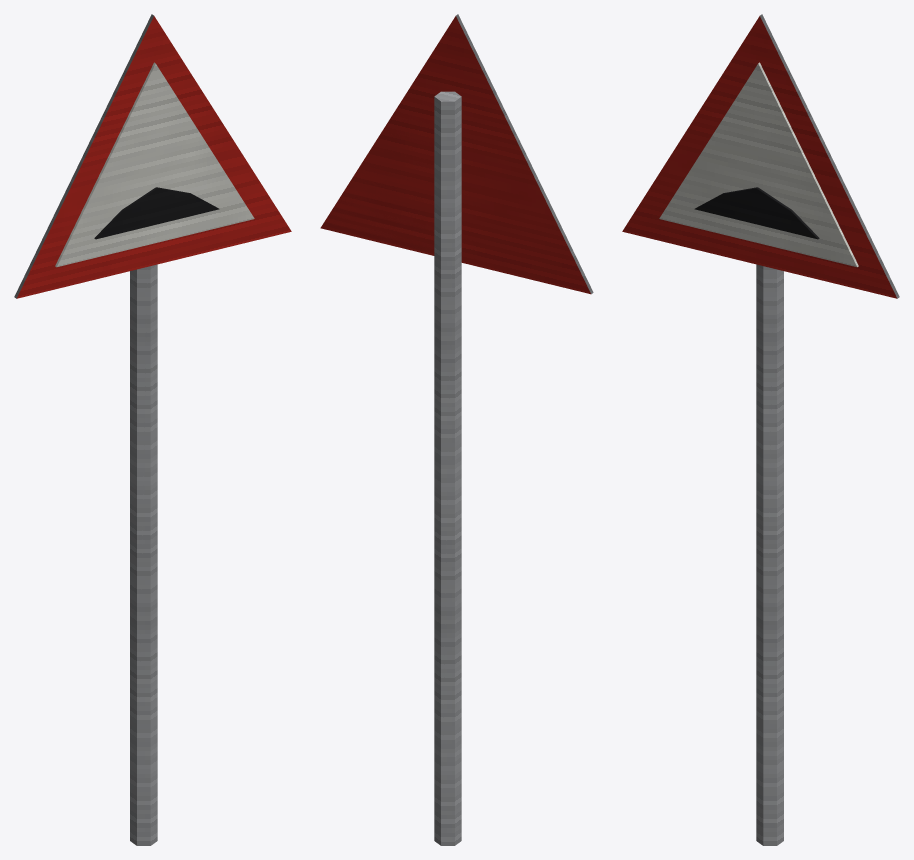
Rendered from placa_pulo.glb.
The picture shows the model from 3 angles, left to right: view 1: azimuth 30°, elevation 25°; view 2: azimuth 150°, elevation 25°; view 3: azimuth 330°, elevation 25°; orthographic projection.
Parts seen in each view (by area): view 1: Inteiro; view 2: Inteiro, Peca_01; view 3: Inteiro.
Boxes of the visible parts, x1,y1,x2,y2 form: Inteiro: (14,14,291,845); Inteiro: (327,14,593,845); Peca_01: (320,39,560,285); Inteiro: (622,14,899,845).
Bounding box in the file's own units: 0.8 × 2.31 × 0.105.
1 material, 1 textured.
